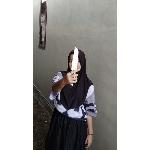Pisau: (64, 45, 84, 87)
